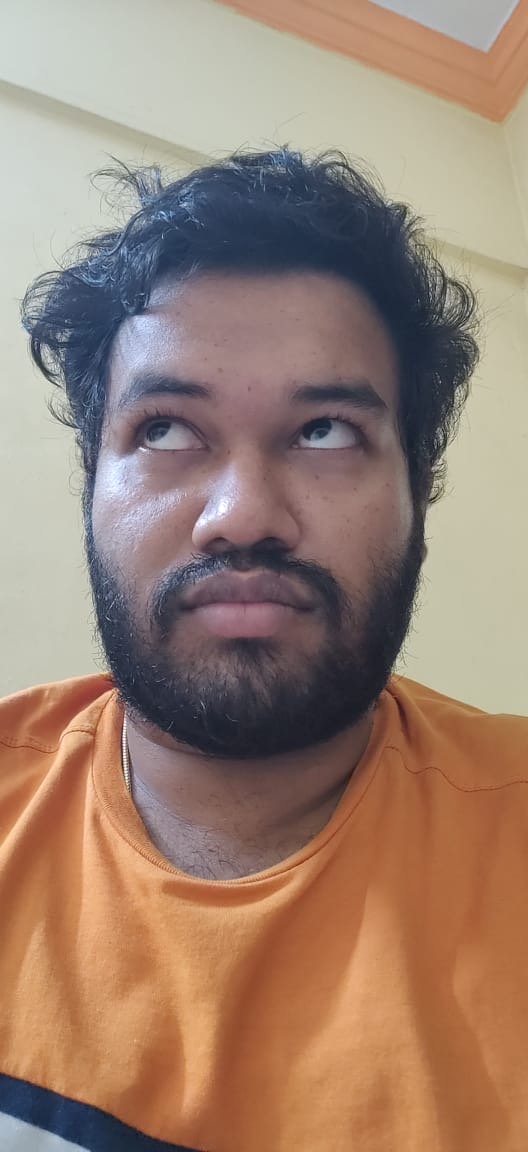Not Sleeping: (116, 407, 399, 477)
